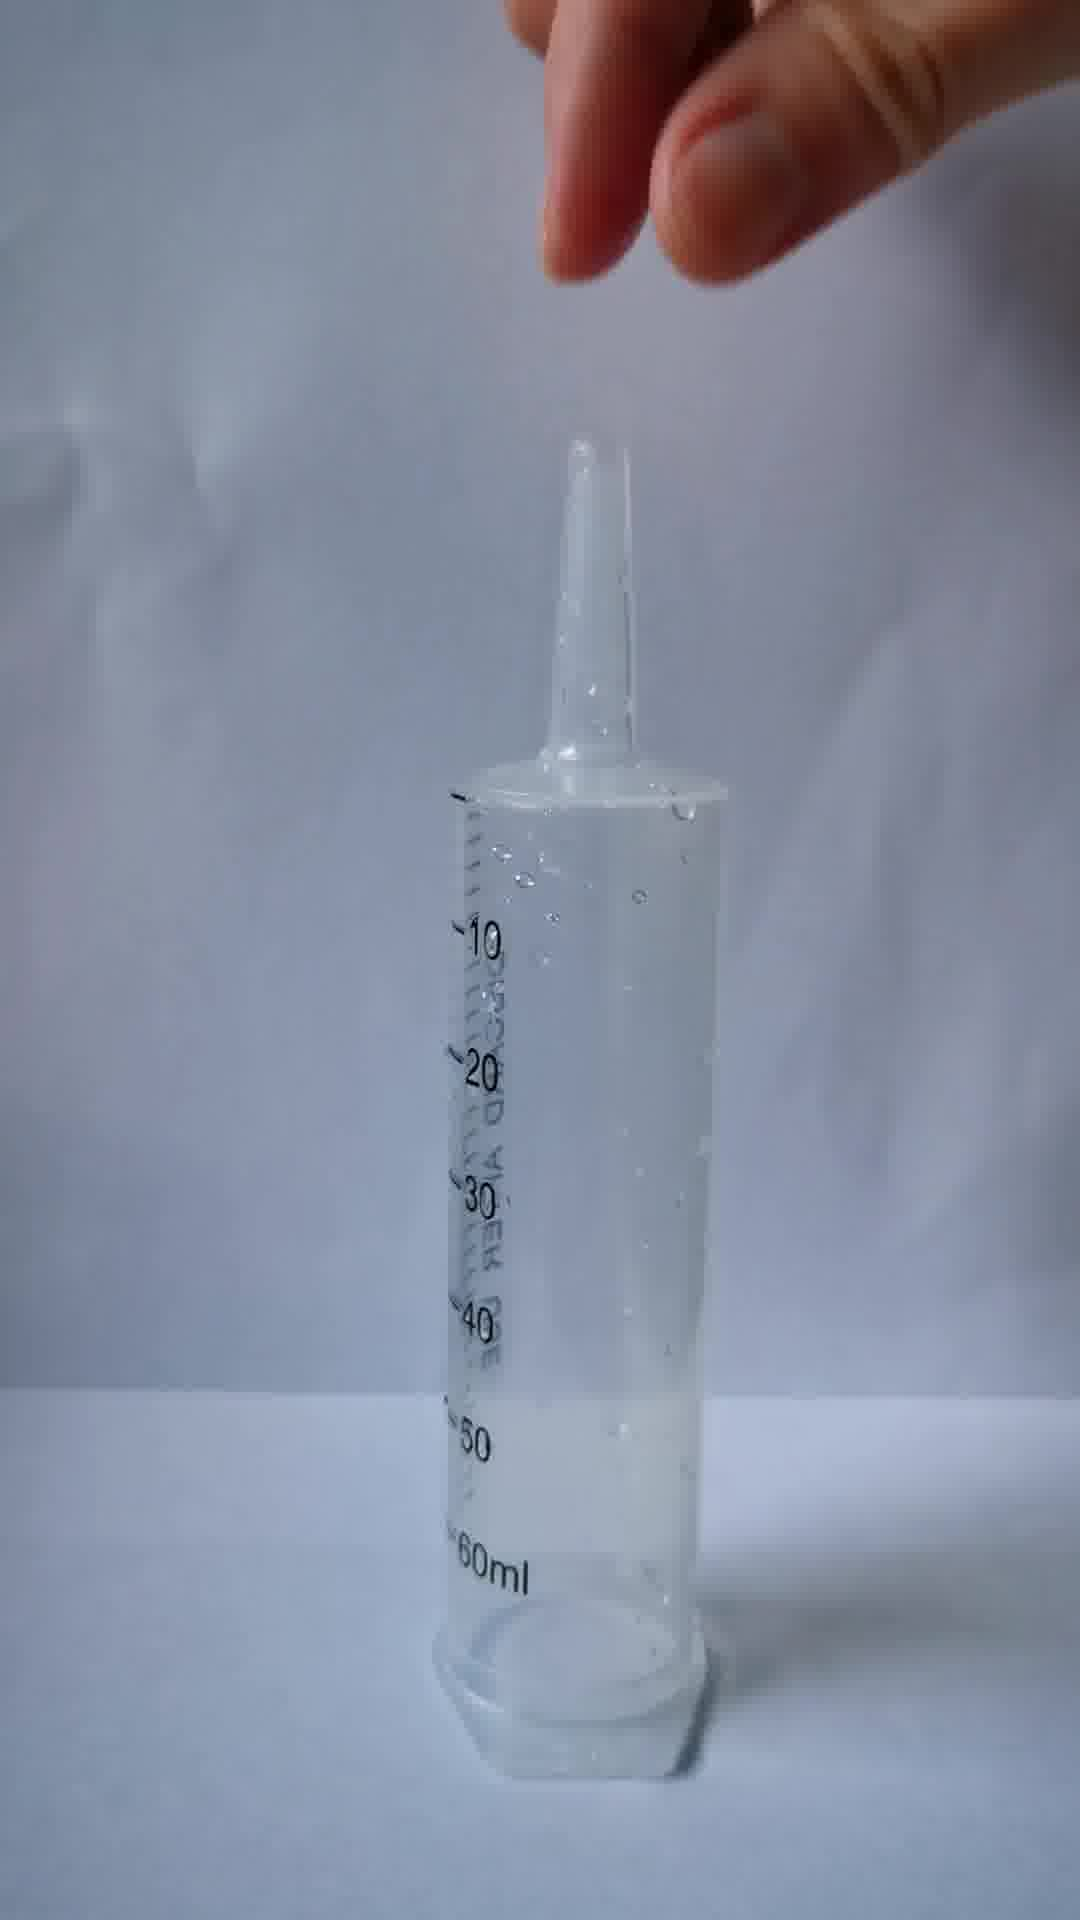syringe: (436, 425, 738, 1779)
